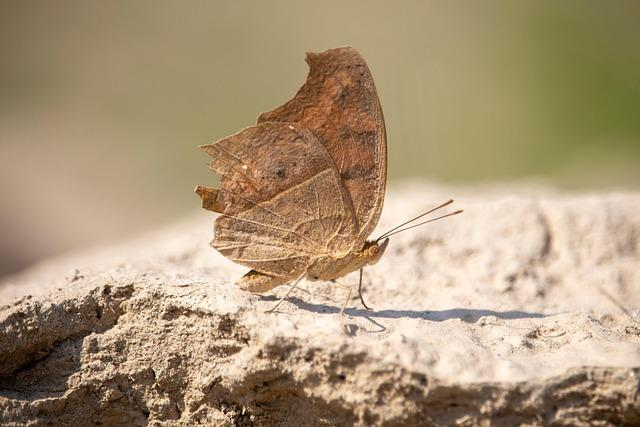Non_Gorille: (142, 19, 517, 360)
